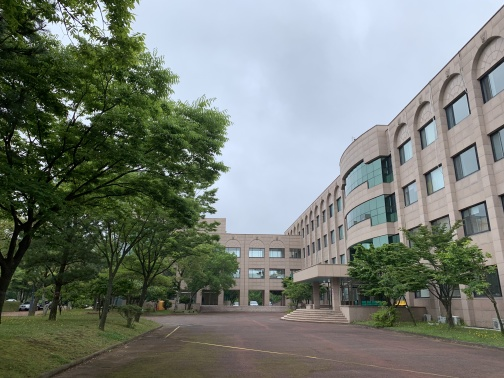Natural Science2: (286, 59, 503, 331), (278, 121, 415, 334)
